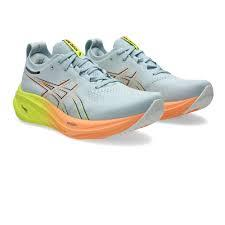asics logo: (24, 64, 93, 123), (107, 67, 141, 89)
